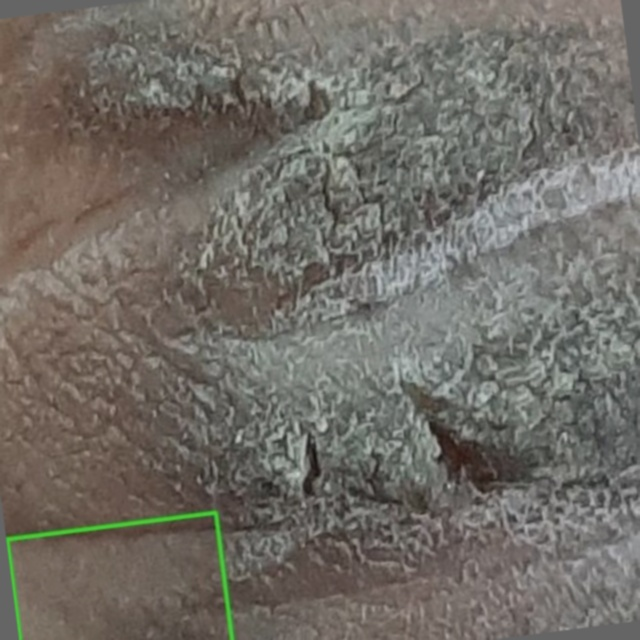Contact Dermatitis: (7, 512, 232, 639)
